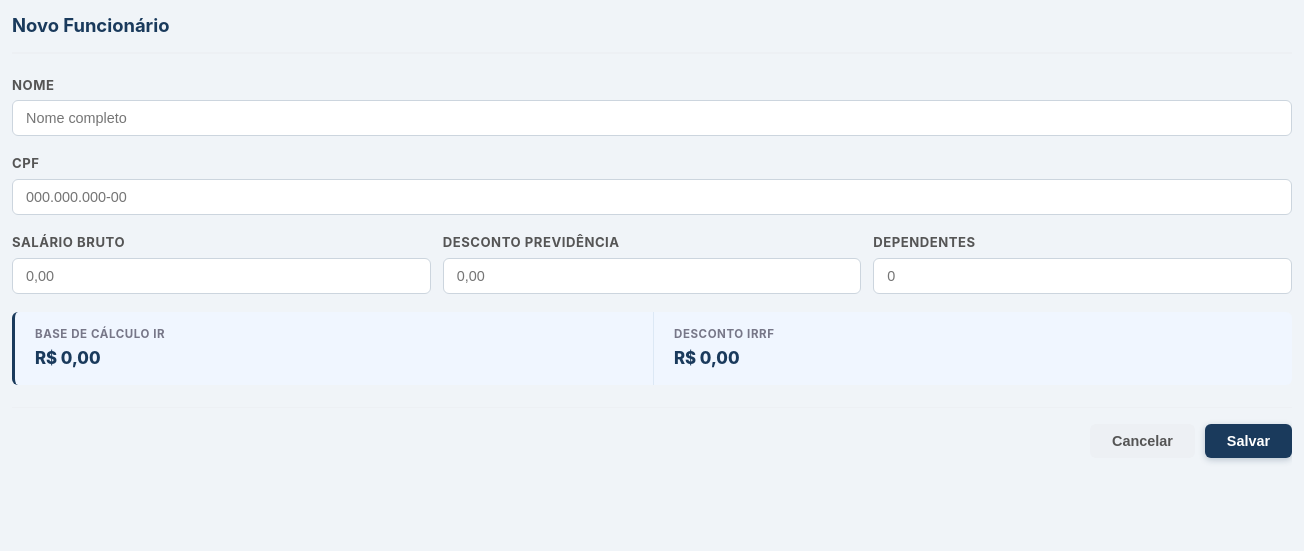
Scenario: EmployeeForm › exibe erro de validação quando nome está vazio
The width and height of the screenshot is (1304, 551).
Click the button "Salvar" at {"x": 1248, "y": 441}, box 1205,424 -> 1292,458
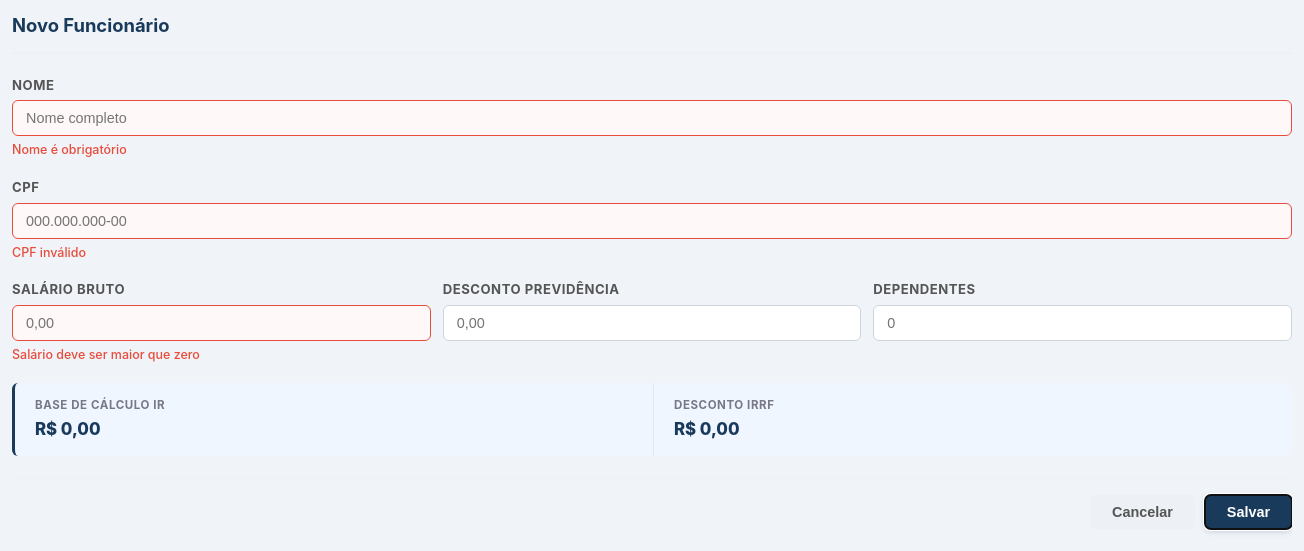
Result: the text "Nome é obrigatório" is shown at 12,142 -> 127,157
